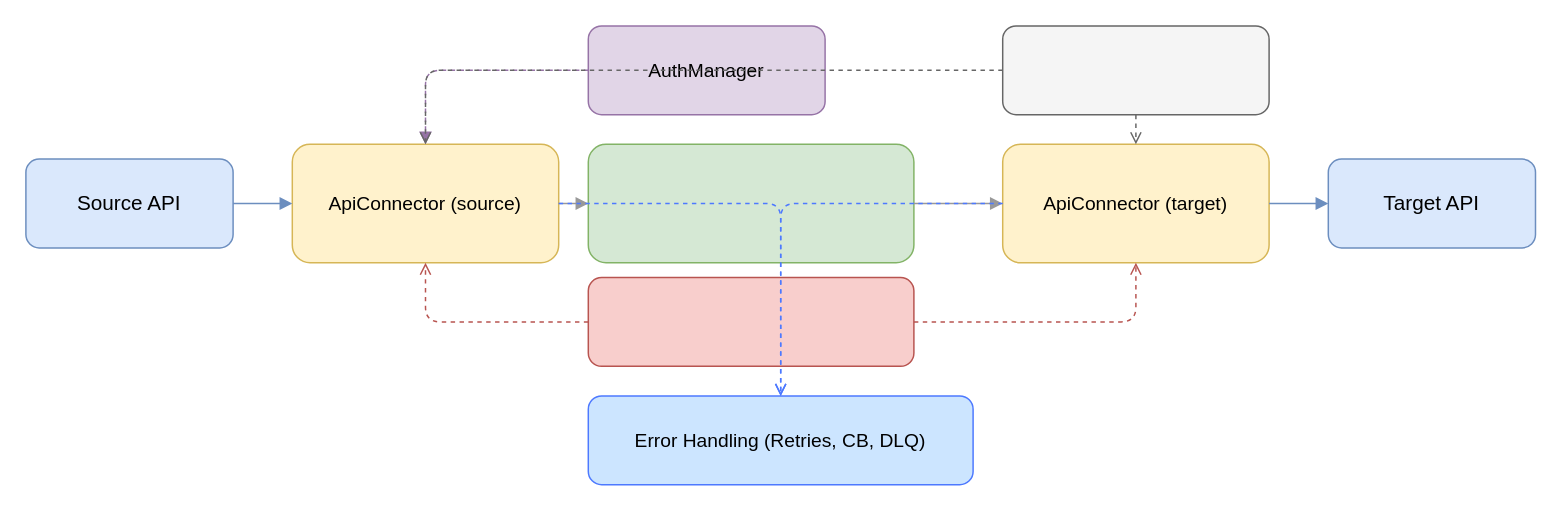
Some shapes in this 1561 by 511 pixel diagram are drawn without their labels. Each missing label, with the centre of its shape:
"FieldMapper + Transformers" goes at (x=750, y=203).
"Logging / Analytics" goes at (x=1135, y=69).
"Scheduler (cron/interval)" goes at (x=750, y=321).
